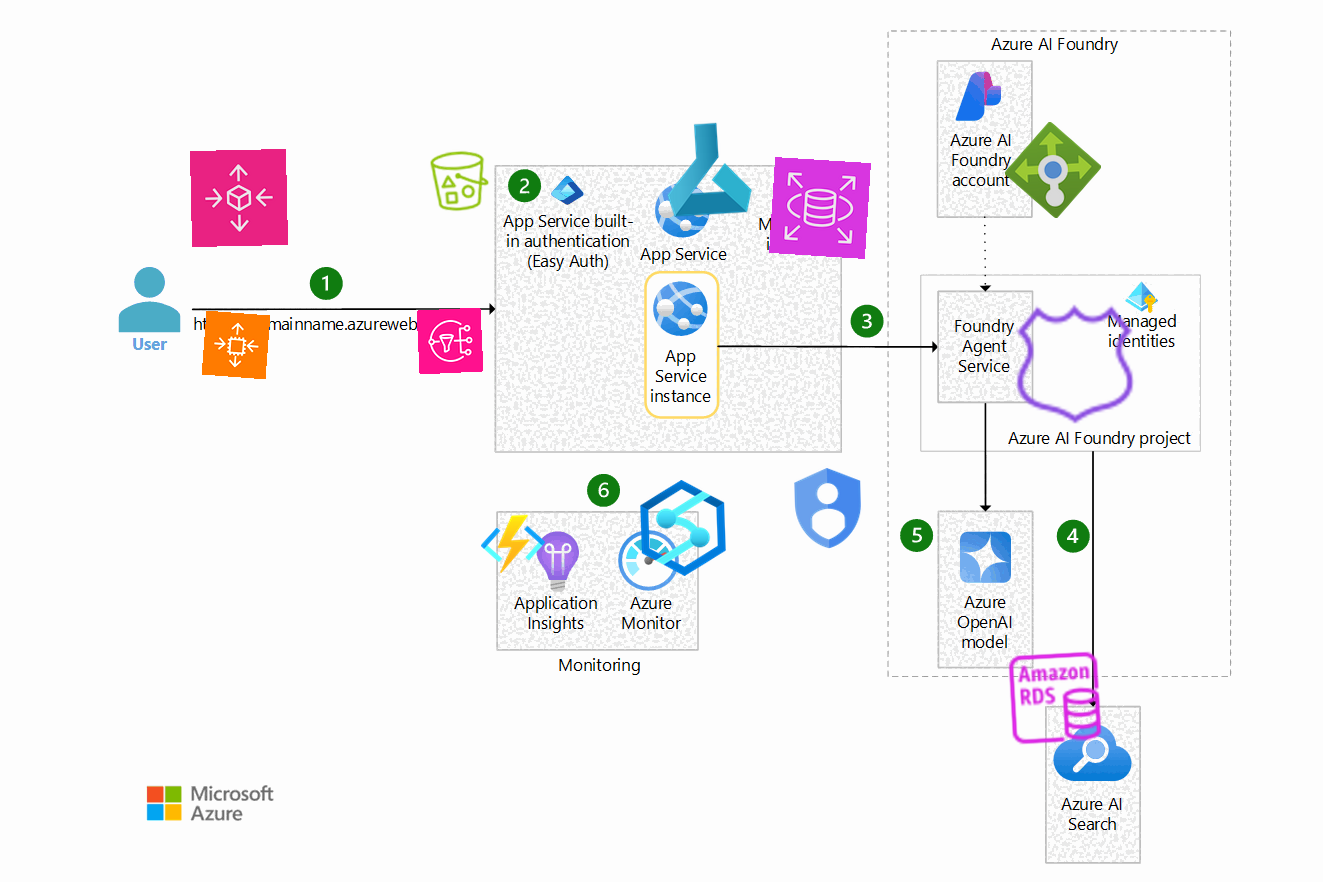aws_amazon_ec2_auto_scaling: (201, 310, 271, 380)
aws_amazon_rds: (769, 157, 871, 259)
aws_amazon_simple_notification_service: (416, 307, 484, 375)
aws_aurora_amazon_rds_instance: (1004, 647, 1106, 749)
aws_auto_scaling: (189, 148, 289, 248)
aws_route_53_hosted_zone: (1011, 299, 1141, 429)
aws_simple_storage_service_bucket_with_objects: (425, 146, 495, 216)
azure_function_apps: (479, 510, 547, 578)
azure_load_balancers: (1001, 118, 1105, 222)
azure_machine_learning: (657, 118, 759, 220)
azure_synapse_analytics: (633, 478, 733, 578)
gcp_identity_and_access_management: (778, 458, 878, 558)
